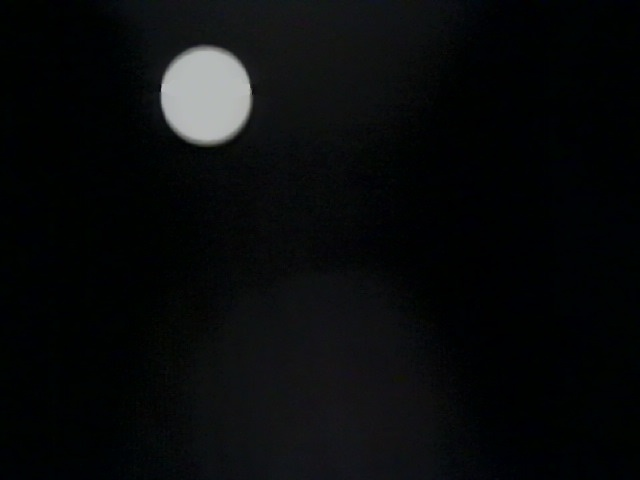YHLJ: (31, 369, 149, 435)
